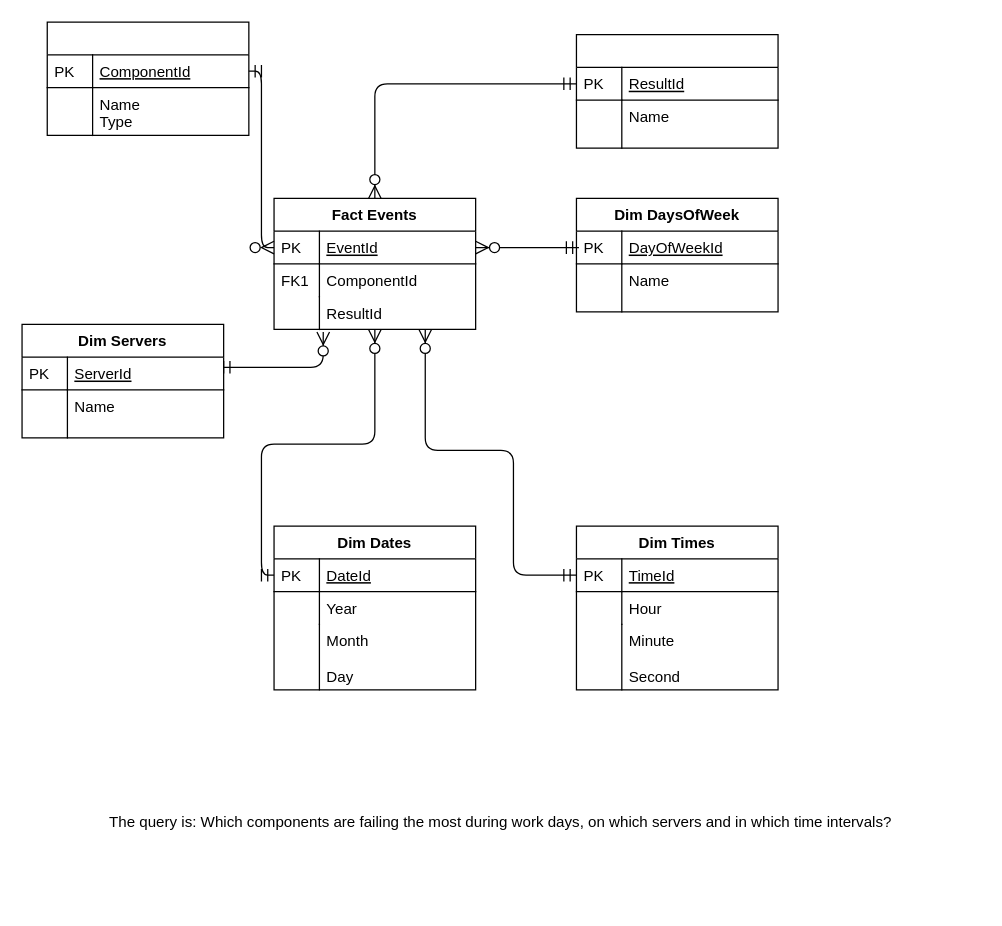
This 1002x926 diagram has some shape labels left out. The shapes that lost their labels are listed below. From the top down, each one's box as (x1, y1, x2, y2) in pixels, then its label:
(46, 21, 249, 135): Dim Components
(575, 33, 778, 148): Dim Results
